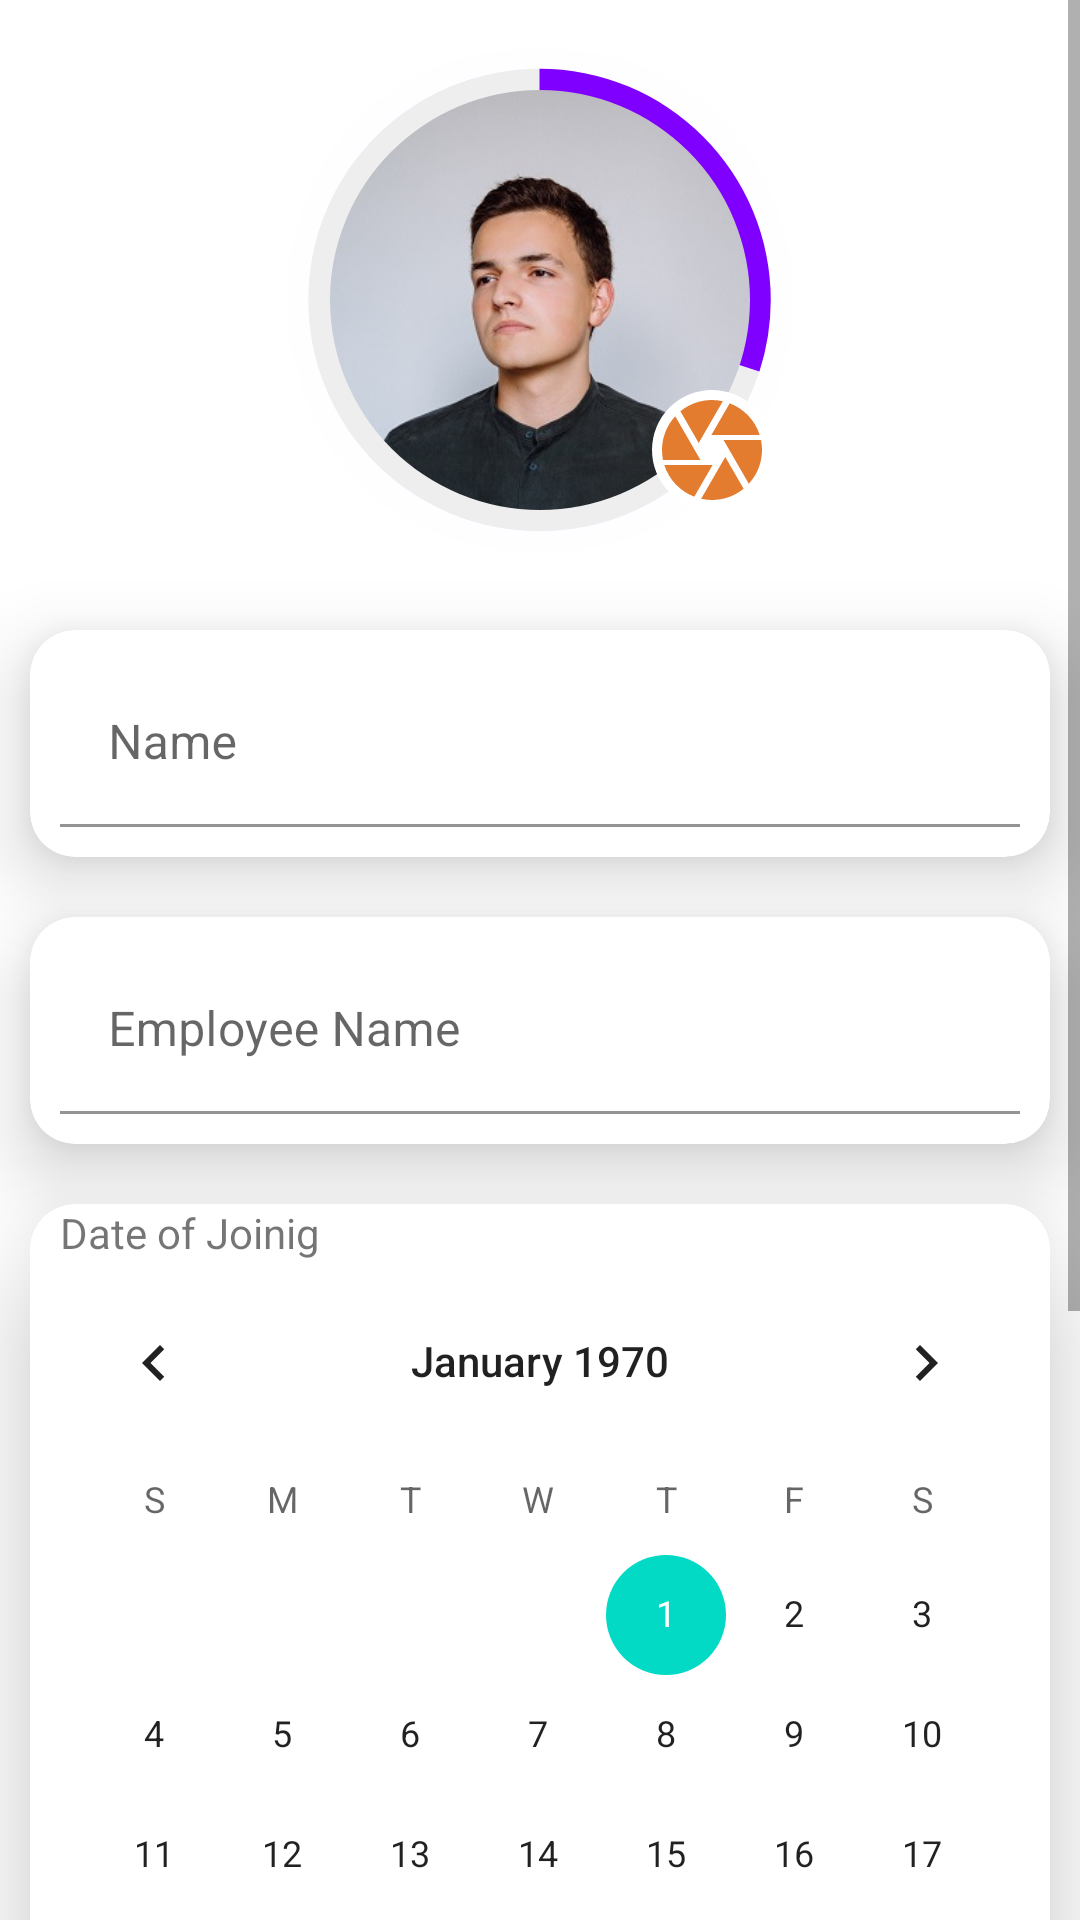

Screen size 1080 x 1920. Icon name, then its center in pixels as point (x, y):
camera: point (712, 450)
